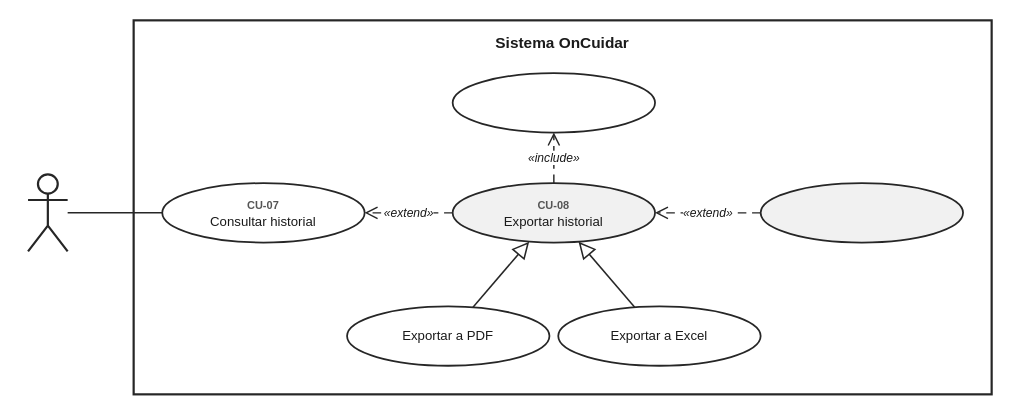
The diagram is 1012 pixels wide and 414 high, and some of its shapes have lost their labels. Here are the shapes that lost their labels. From the top down, the box of each, then its label:
(451, 72, 655, 133): Seleccionar rango de fechas
(26, 173, 68, 252): Cuidador principal
(759, 182, 963, 243): Compartir archivo
